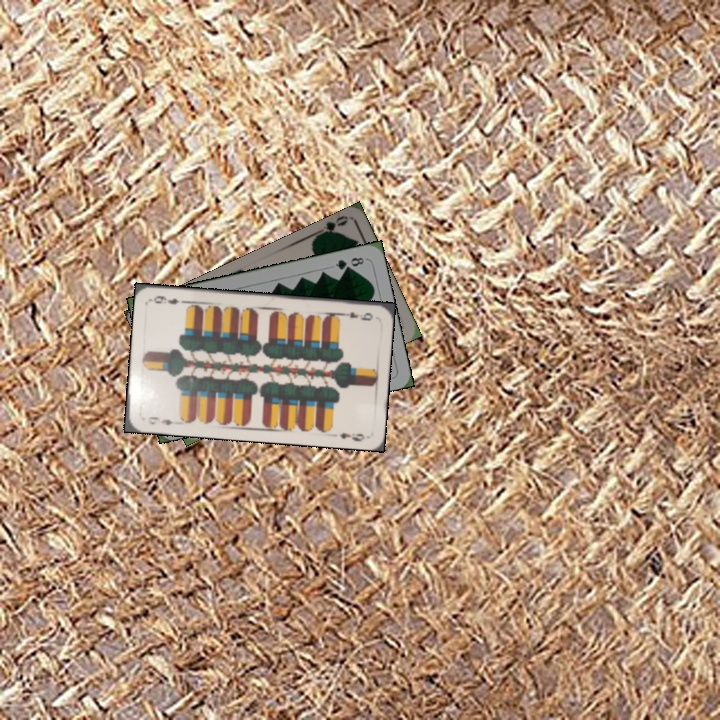E9: (143, 412, 180, 428), (337, 308, 376, 323)
G8: (331, 253, 367, 273)
GO: (311, 212, 350, 239)
